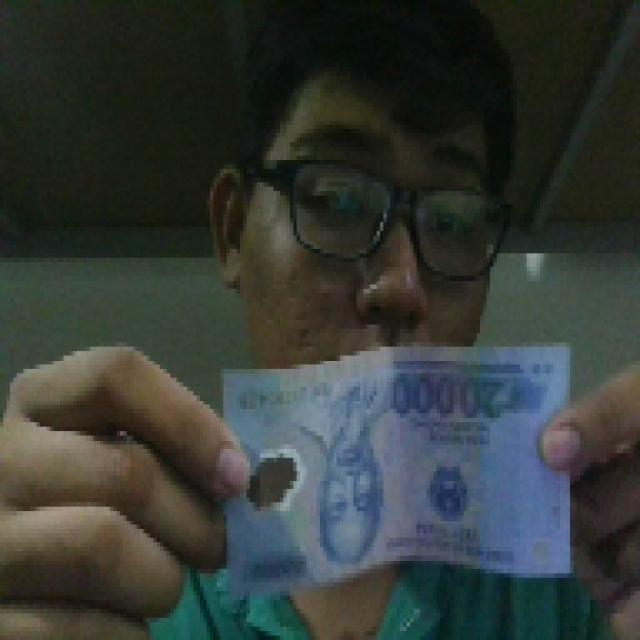20 000 VND: (213, 338, 580, 600)
